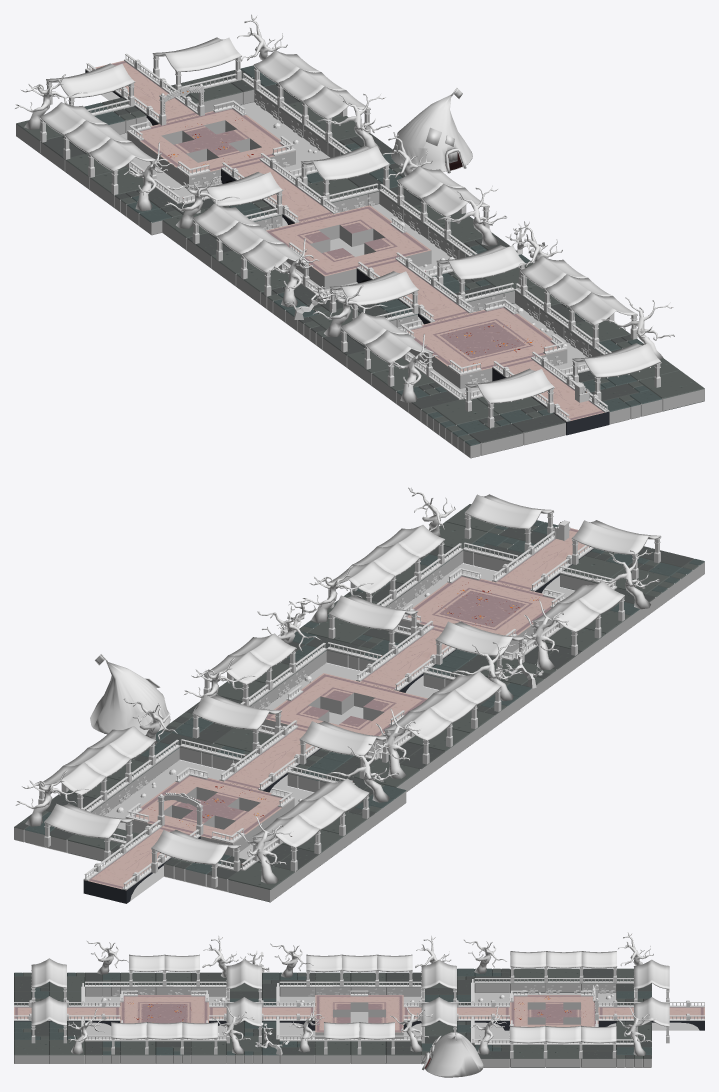
Rendered from lvl3_world1.fbx.
The picture shows the model from 3 angles, top to bottom: view 1: azimuth 30°, elevation 25°; view 2: azimuth 150°, elevation 25°; view 3: azimuth 270°, elevation 25°; orthographic projection. The views are drawn at different scales.
Parts seen in each view (by area): view 1: Plane.041, Cube.001, Cube.1466, Circle.016, Cube.1452, l3_a3, lvl3_a1, l3_a2, Cube.1495, Cube.1490, Cube.1382, Cube.1496 (+16 smaller); view 2: Plane.041, Cube.001, Cube.1466, Circle.016, Cube.1495, Cube.1452, l3_a3, Cube.1490, Cube.1496, lvl3_a1, l3_a2, Cube.1494 (+15 smaller); view 3: Plane.041, Cube.1452, Cube.001, Circle.016, Cube.1466, Cube.1496, Cube.1495, Cube.1494, Cube.1490, l3_a3, l3_a2, lvl3_a1 (+26 smaller).
Part boxes in pixels (left/top/right/bottom): Plane.041: left=40, top=50, right=637, bottom=348; Cube.001: left=46, top=37, right=660, bottom=427; Cube.1466: left=298, top=299, right=565, bottom=458; Circle.016: left=15, top=14, right=674, bottom=402; Cube.1452: left=440, top=263, right=704, bottom=424; l3_a3: left=127, top=108, right=295, bottom=189; lvl3_a1: left=407, top=307, right=567, bottom=388; l3_a2: left=266, top=205, right=431, bottom=289; Cube.1495: left=16, top=97, right=214, bottom=235; Cube.1490: left=162, top=199, right=352, bottom=331; Cube.1382: left=329, top=271, right=432, bottom=386; Cube.1496: left=167, top=65, right=395, bottom=184; Plane.041: left=38, top=525, right=501, bottom=871; Cube.001: left=44, top=494, right=660, bottom=887; Cube.1466: left=436, top=546, right=704, bottom=700; Circle.016: left=15, top=487, right=660, bottom=884; Cube.1495: left=164, top=764, right=406, bottom=902; Cube.1452: left=299, top=504, right=558, bottom=653; l3_a3: left=125, top=775, right=294, bottom=856; Cube.1490: left=300, top=664, right=531, bottom=792; Cube.1496: left=14, top=730, right=254, bottom=862; lvl3_a1: left=398, top=576, right=558, bottom=656; l3_a2: left=261, top=673, right=427, bottom=755; Cube.1494: left=161, top=631, right=389, bottom=752; Plane.041: left=111, top=951, right=616, bottom=1058; Cube.1452: left=14, top=1021, right=261, bottom=1063; Cube.001: left=31, top=958, right=669, bottom=1043; Circle.016: left=68, top=932, right=656, bottom=1056; Cube.1466: left=14, top=972, right=261, bottom=1005; Cube.1496: left=457, top=1021, right=651, bottom=1067; Cube.1495: left=457, top=968, right=651, bottom=1005; Cube.1494: left=262, top=1021, right=456, bottom=1063; Cube.1490: left=262, top=972, right=456, bottom=1005; l3_a3: left=510, top=995, right=598, bottom=1026; l3_a2: left=315, top=995, right=403, bottom=1038; lvl3_a1: left=120, top=995, right=208, bottom=1038.
Size of the model in its own units: 15049 by 3471 by 39000.
